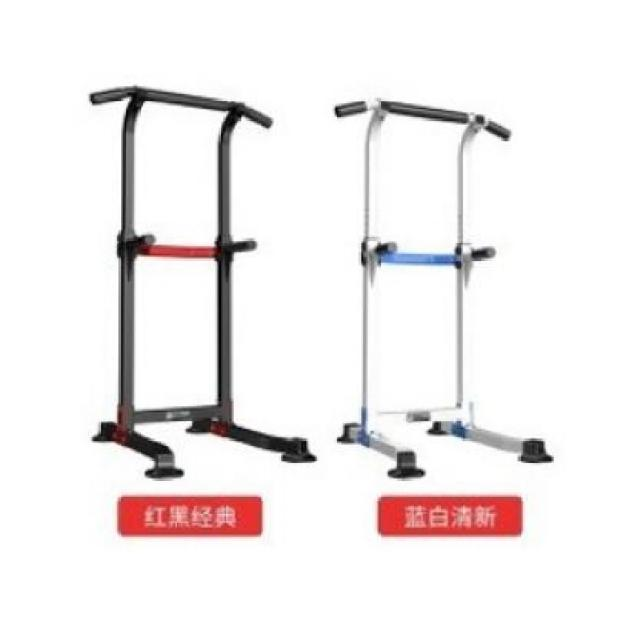chinning dipping: (86, 81, 320, 482), (326, 94, 559, 481)
